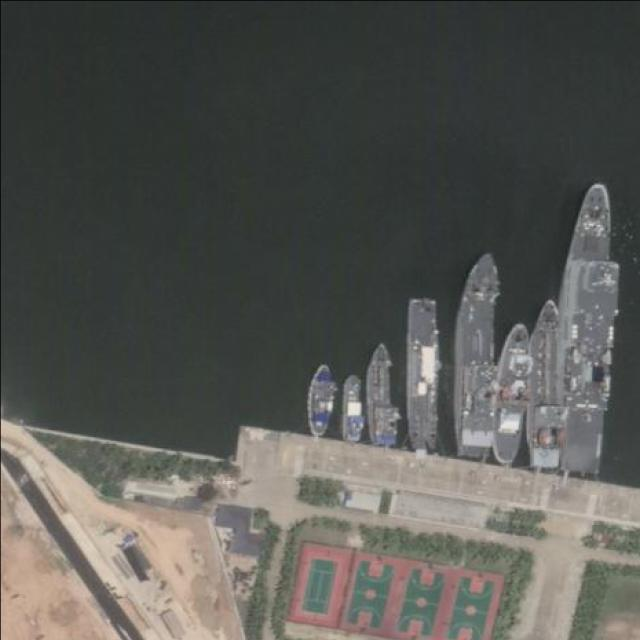Landing: (555, 180, 622, 476), (450, 252, 502, 461)
Other Warship: (524, 299, 563, 469), (493, 323, 531, 465), (367, 343, 400, 445), (306, 363, 335, 435), (342, 375, 364, 442)
